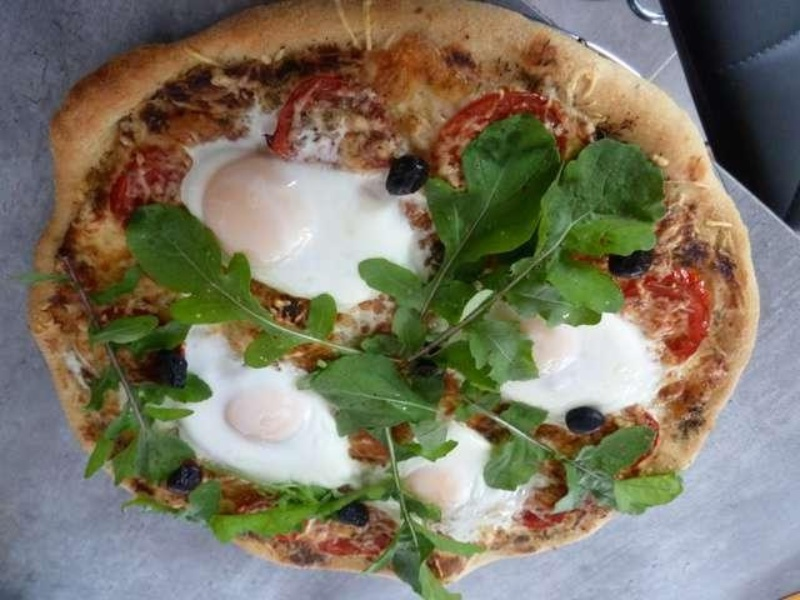oeuf: (199, 161, 362, 280), (213, 372, 321, 463), (399, 459, 485, 527)
olive: (143, 343, 202, 394), (556, 396, 614, 441), (385, 149, 431, 201), (162, 455, 210, 498), (605, 246, 659, 284), (338, 499, 380, 535)
